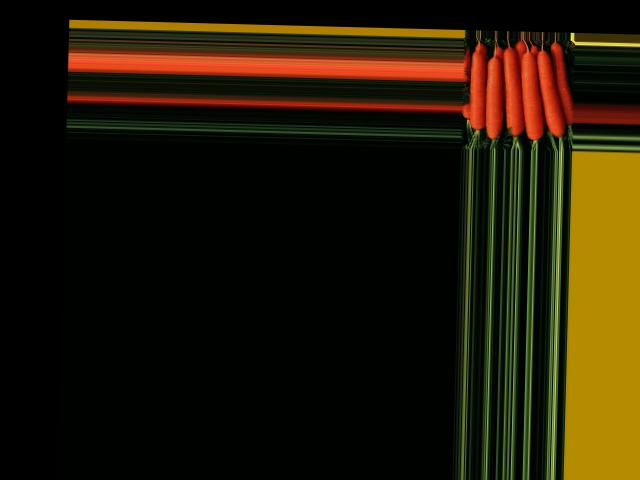carrot: (546, 44, 576, 128)
